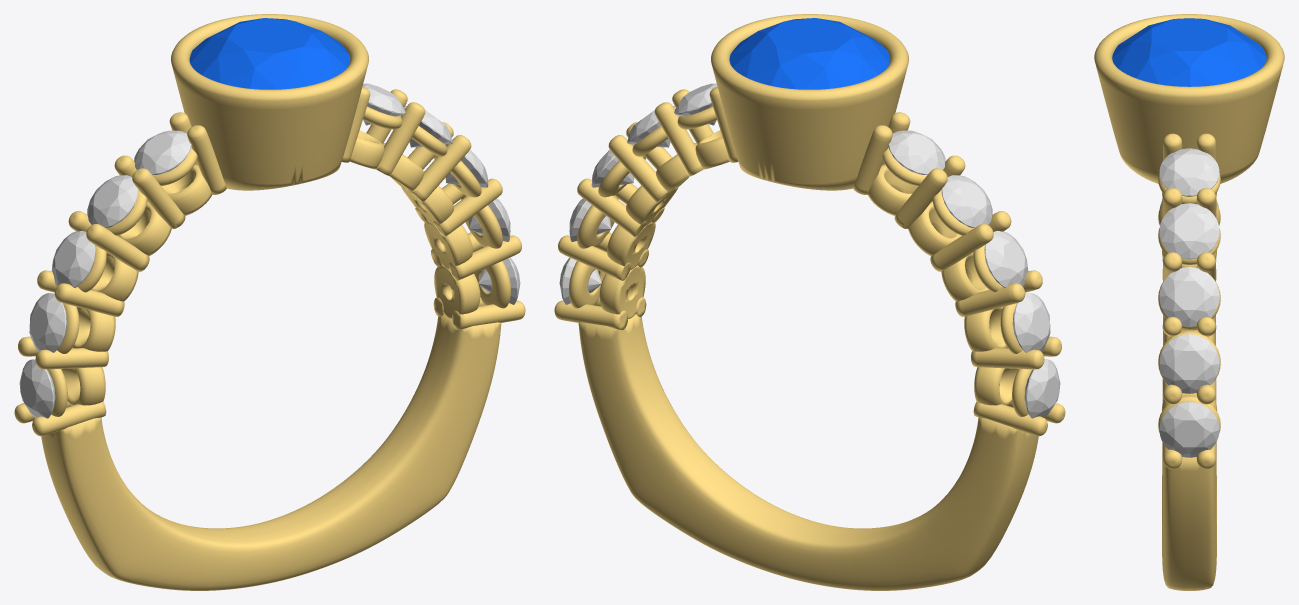
File: bluesapphire-round-yellowgold-bezelset-europeanshank-5stone.glb
The picture shows the model from 3 angles, left to right: view 1: azimuth 30°, elevation 25°; view 2: azimuth 150°, elevation 25°; view 3: azimuth 270°, elevation 25°; orthographic projection. The views are drawn at different scales.
Visible parts, largest first — view 1: metal, stone, side.006, side.007, side.005, side.008, side.009, side, side.001, side.004, side.003; view 2: metal, stone, side.006, side.007, side.005, side.008, side.009, side, side.001, side.004, side.003; view 3: metal, stone, side.003, side.002, side.001, side.004, side.
Boxes of the visible parts, x1,y1,x2,y2 form: metal: (14, 14, 525, 590); stone: (189, 18, 350, 89); side.006: (87, 175, 138, 227); side.007: (51, 230, 95, 287); side.005: (134, 130, 191, 174); side.008: (29, 293, 67, 352); side.009: (19, 359, 55, 418); side: (362, 83, 405, 125); side.001: (403, 106, 452, 147); side.004: (478, 257, 520, 304); side.003: (469, 198, 510, 241); metal: (554, 14, 1065, 590); stone: (729, 18, 890, 89); side.006: (941, 175, 992, 227); side.007: (984, 230, 1028, 287); side.005: (888, 130, 945, 174); side.008: (1012, 293, 1050, 352); side.009: (1024, 359, 1060, 418); side: (674, 83, 717, 125); side.001: (627, 106, 676, 147); side.004: (559, 257, 601, 304); side.003: (569, 198, 610, 241); metal: (1094, 14, 1284, 590); stone: (1112, 18, 1266, 86); side.003: (1159, 334, 1219, 393); side.002: (1159, 267, 1219, 326); side.001: (1159, 203, 1219, 259); side.004: (1159, 402, 1219, 457); side: (1159, 148, 1219, 196).
Bounding box in the file's own units: 22.63 × 23.81 × 7.94.
